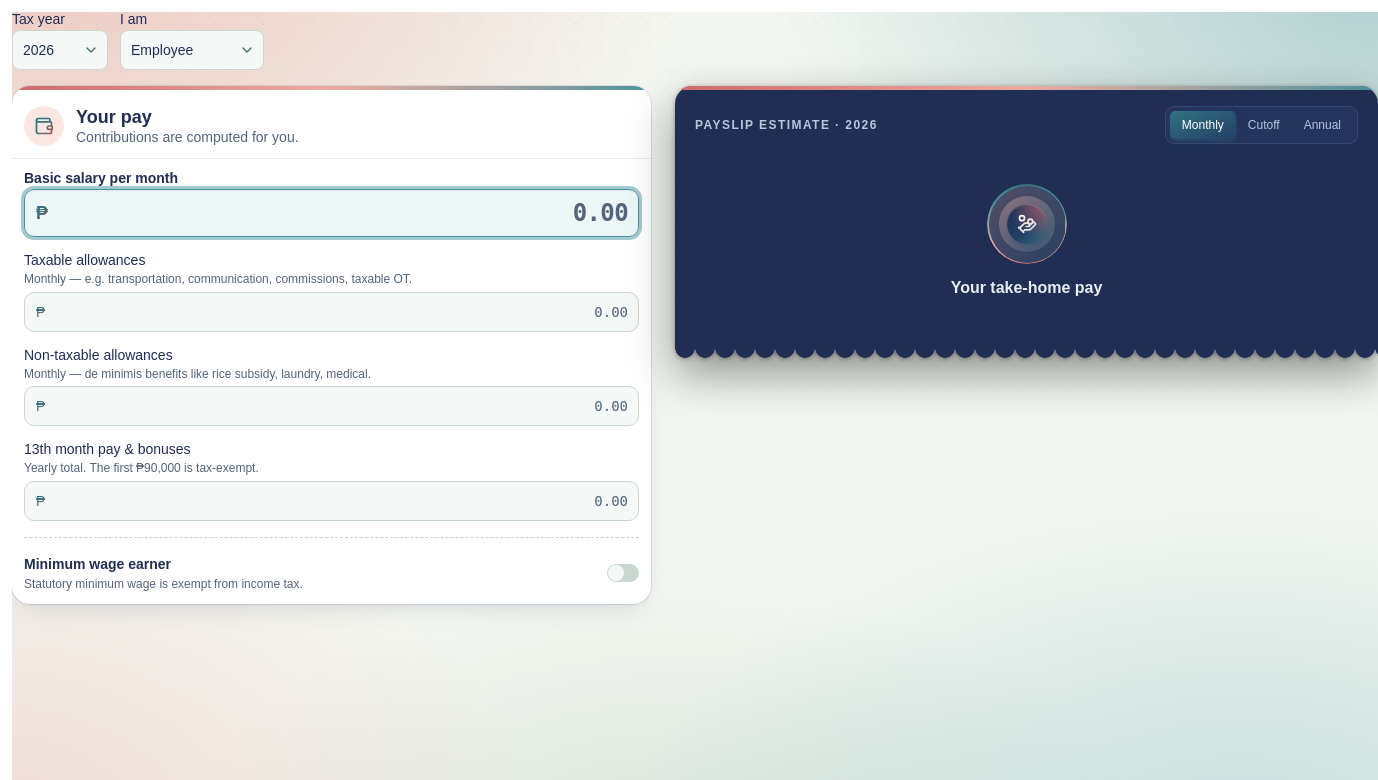
Test: Monthly › takes no income tax from a minimum wage earner
The width and height of the screenshot is (1378, 780).
In the field labelled "Basic salary per month": x=332, y=213 [24, 189, 639, 237], type "35000"
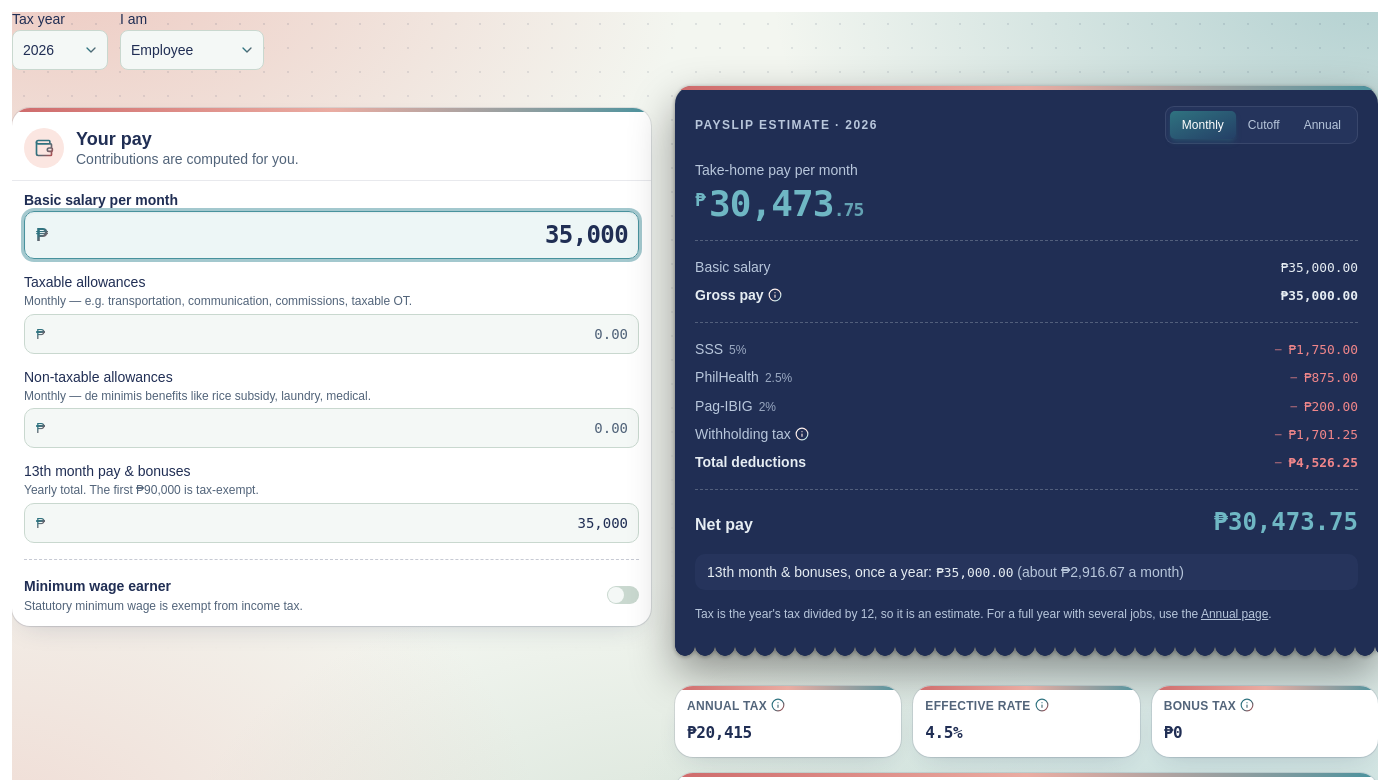
Click the switch named "Minimum wage earner": x=623, y=595 [607, 586, 639, 604]
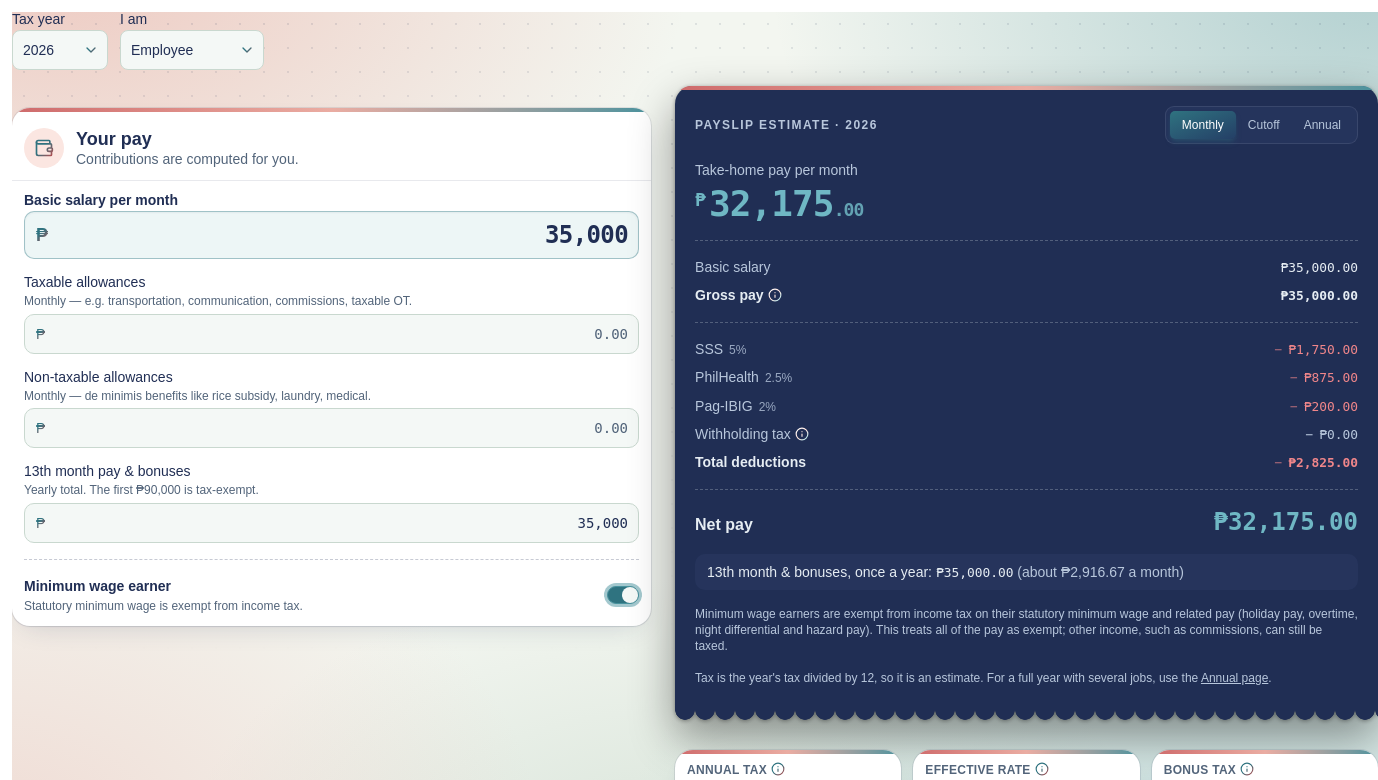
Expected: the text "₱32,175.00" is shown, [1214, 506, 1358, 538]
